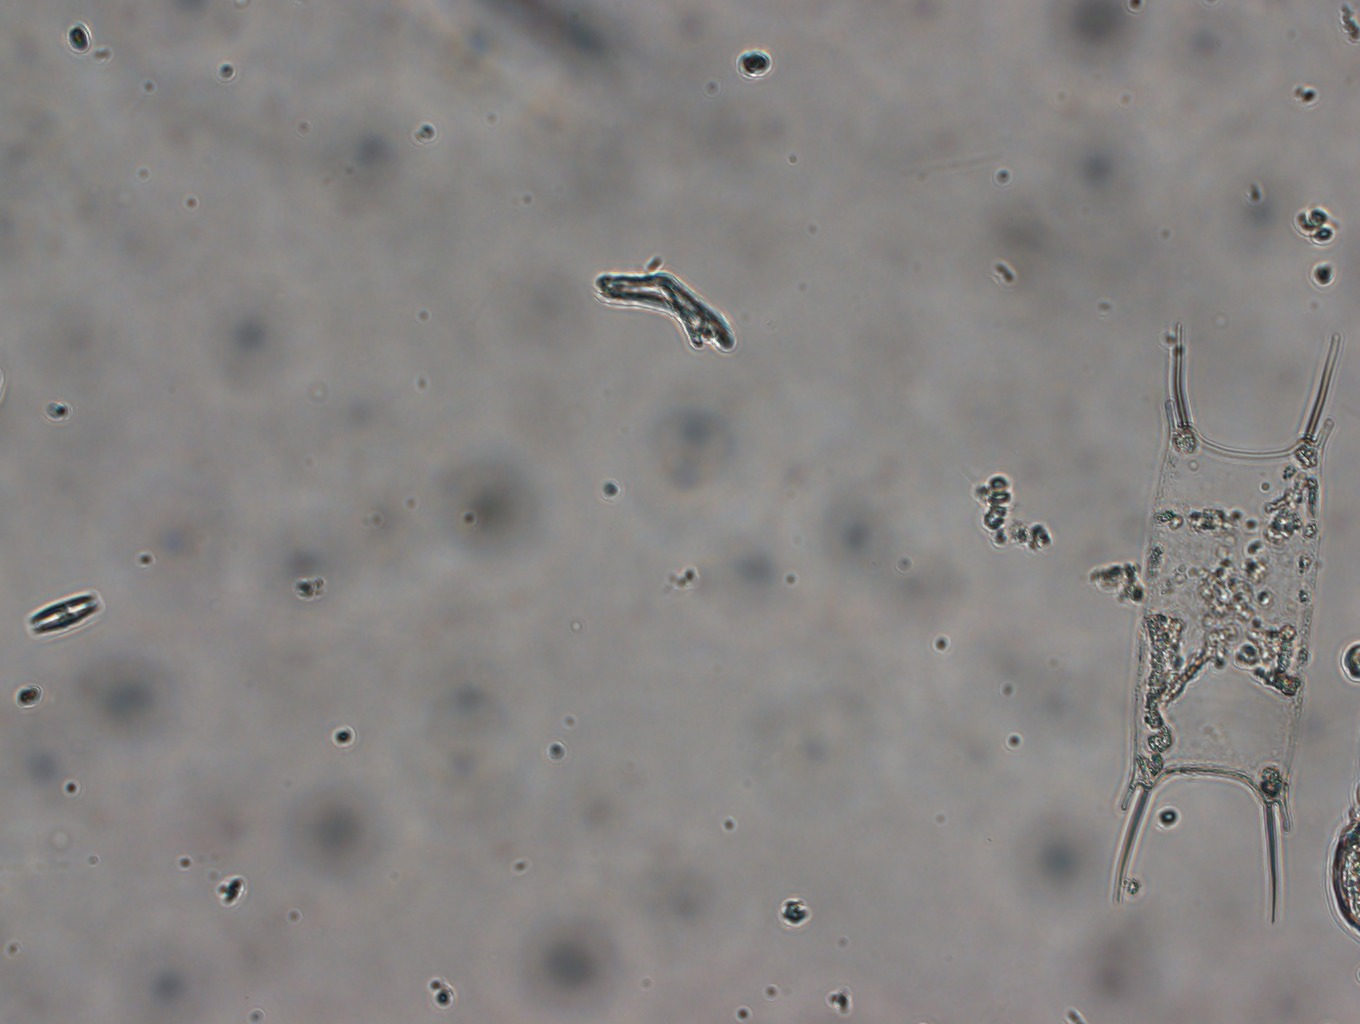biddulphia: (1090, 297, 1345, 931)
